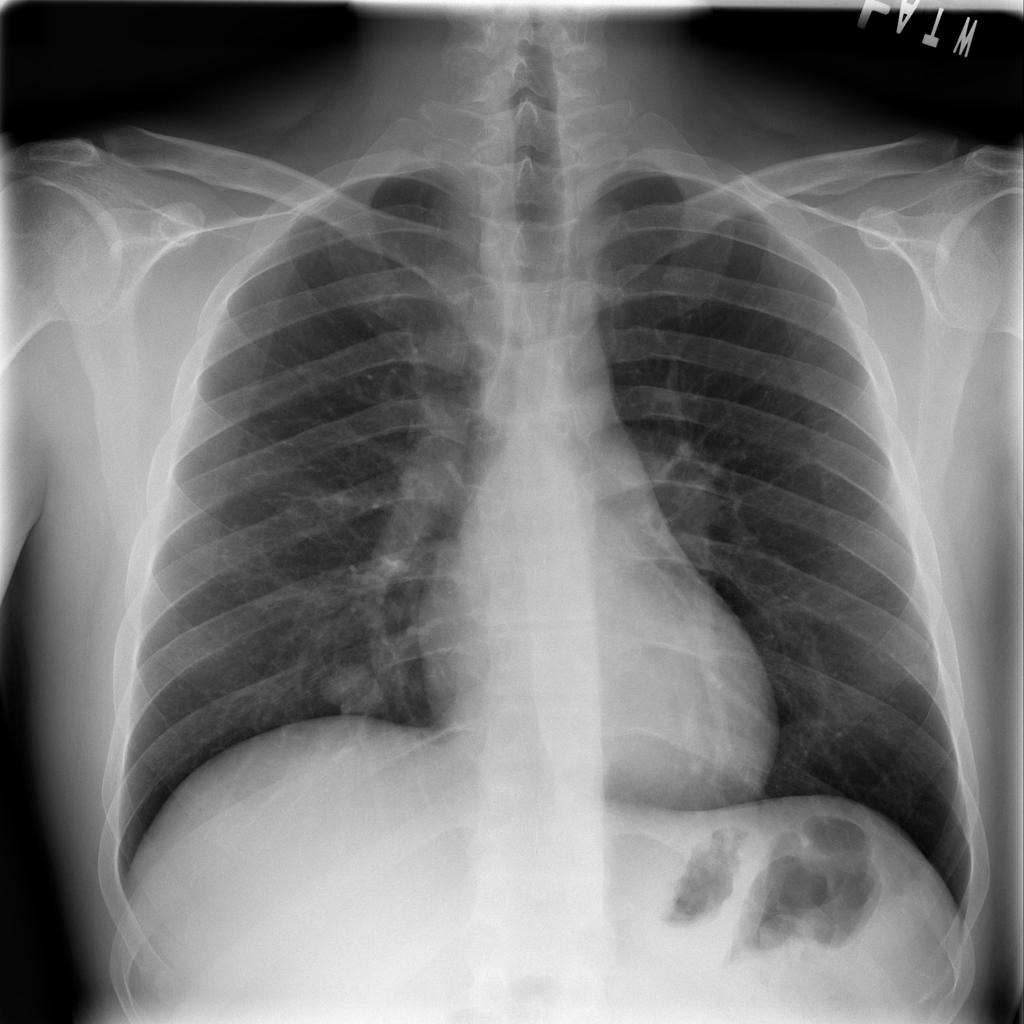nodule: (305, 655, 396, 728), (889, 646, 941, 696)
